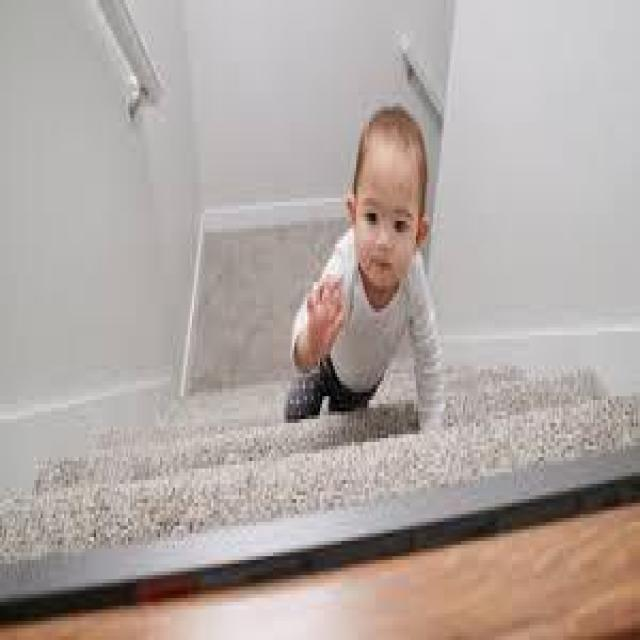child: (273, 99, 457, 461)
